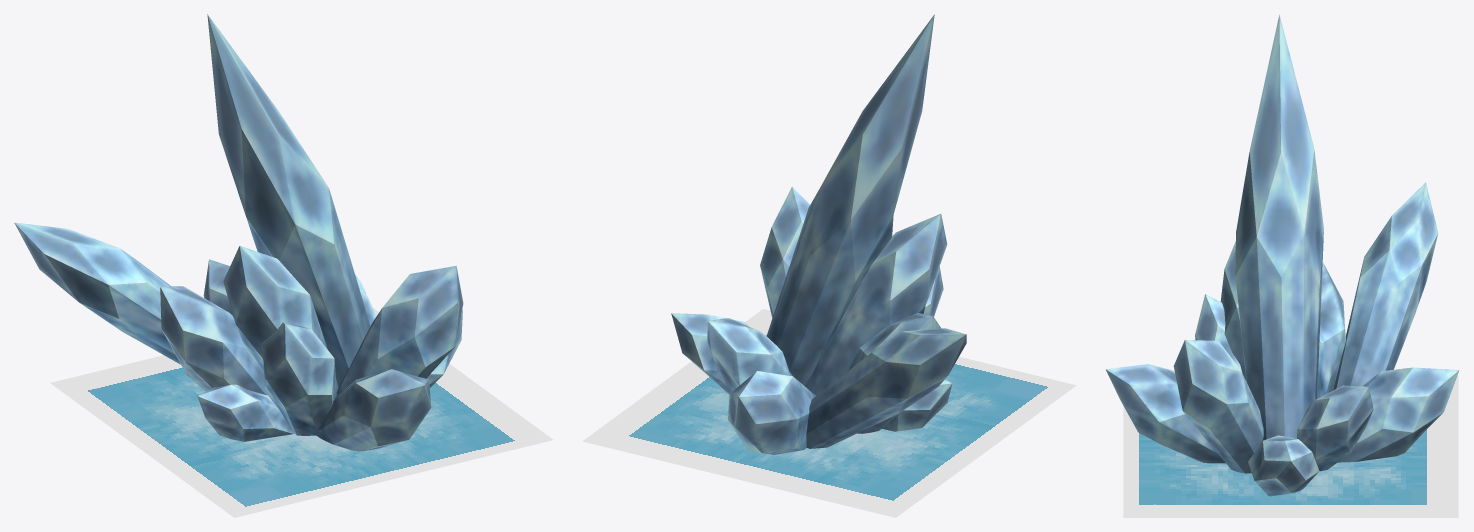
Rendered from effect_caiwenji.FBX.
3 renders of one model, left to right at view 1: azimuth 30°, elevation 25°; view 2: azimuth 150°, elevation 25°; view 3: azimuth 270°, elevation 25°, orthographic. The views are drawn at different scales.
Visible parts, largest first — view 1: effect_caiwenji_ground, effect_caiwenji_10, effect_caiwenji_11, effect_caiwenji_3, effect_caiwenji_5, effect_caiwenji_8, effect_caiwenji_1, effect_caiwenji_4, effect_caiwenji_9, effect_caiwenji_6; view 2: effect_caiwenji_ground, effect_caiwenji_10, effect_caiwenji_11, effect_caiwenji_1, effect_caiwenji_6, effect_caiwenji_2, effect_caiwenji_3, effect_caiwenji_7, effect_caiwenji_9, effect_caiwenji_5; view 3: effect_caiwenji_10, effect_caiwenji_ground, effect_caiwenji_11, effect_caiwenji_3, effect_caiwenji_6, effect_caiwenji_8, effect_caiwenji_2, effect_caiwenji_7, effect_caiwenji_5, effect_caiwenji_1, effect_caiwenji_4.
Part boxes in pixels (left/top/right/bottom): effect_caiwenji_ground: left=50, top=308, right=553, bottom=517; effect_caiwenji_10: left=207, top=14, right=370, bottom=387; effect_caiwenji_11: left=14, top=222, right=180, bottom=364; effect_caiwenji_3: left=336, top=265, right=463, bottom=395; effect_caiwenji_5: left=160, top=286, right=267, bottom=395; effect_caiwenji_8: left=316, top=369, right=431, bottom=451; effect_caiwenji_1: left=223, top=246, right=338, bottom=391; effect_caiwenji_4: left=261, top=322, right=336, bottom=435; effect_caiwenji_9: left=197, top=384, right=294, bottom=441; effect_caiwenji_6: left=203, top=259, right=232, bottom=315; effect_caiwenji_ground: left=582, top=309, right=1076, bottom=517; effect_caiwenji_10: left=766, top=14, right=934, bottom=385; effect_caiwenji_11: left=806, top=328, right=966, bottom=448; effect_caiwenji_1: left=804, top=214, right=947, bottom=395; effect_caiwenji_6: left=728, top=371, right=815, bottom=454; effect_caiwenji_2: left=707, top=318, right=792, bottom=392; effect_caiwenji_3: left=760, top=187, right=809, bottom=317; effect_caiwenji_7: left=671, top=313, right=747, bottom=394; effect_caiwenji_9: left=882, top=379, right=952, bottom=431; effect_caiwenji_5: left=848, top=313, right=941, bottom=433; effect_caiwenji_10: left=1235, top=14, right=1323, bottom=440; effect_caiwenji_ground: left=1123, top=376, right=1458, bottom=517; effect_caiwenji_11: left=1333, top=182, right=1438, bottom=390; effect_caiwenji_3: left=1173, top=339, right=1263, bottom=473; effect_caiwenji_6: left=1338, top=367, right=1459, bottom=462; effect_caiwenji_8: left=1105, top=364, right=1225, bottom=463; effect_caiwenji_2: left=1297, top=385, right=1373, bottom=471; effect_caiwenji_7: left=1248, top=435, right=1319, bottom=496; effect_caiwenji_5: left=1317, top=263, right=1346, bottom=398; effect_caiwenji_1: left=1220, top=241, right=1246, bottom=380; effect_caiwenji_4: left=1195, top=294, right=1242, bottom=372.
Size of the model in its own units: 235 by 287 by 211.
Materials: 2 (2 with a texture image).
